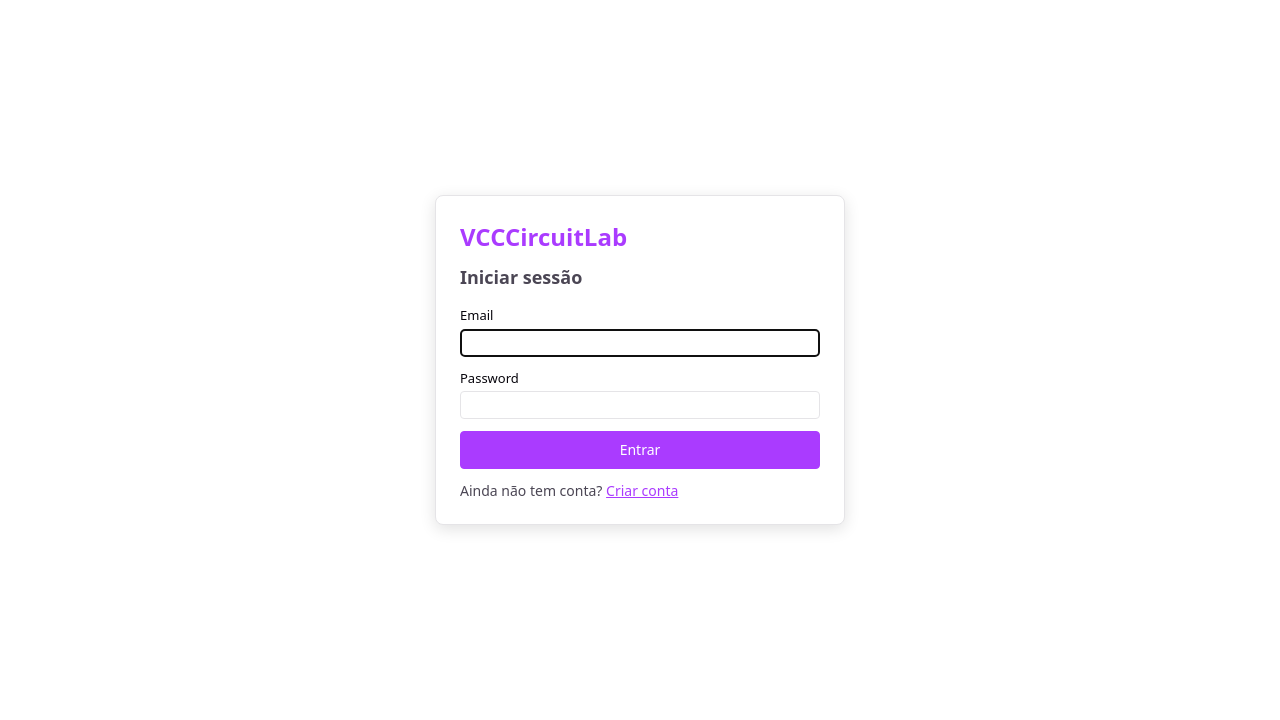
Test: LoginScreen › "Criar conta" abre o registo e, criada a conta, pré-preenche o email
Step 1. Click the button "Criar conta" → (642, 491), box top-left (606, 481), bottom-right (678, 500)
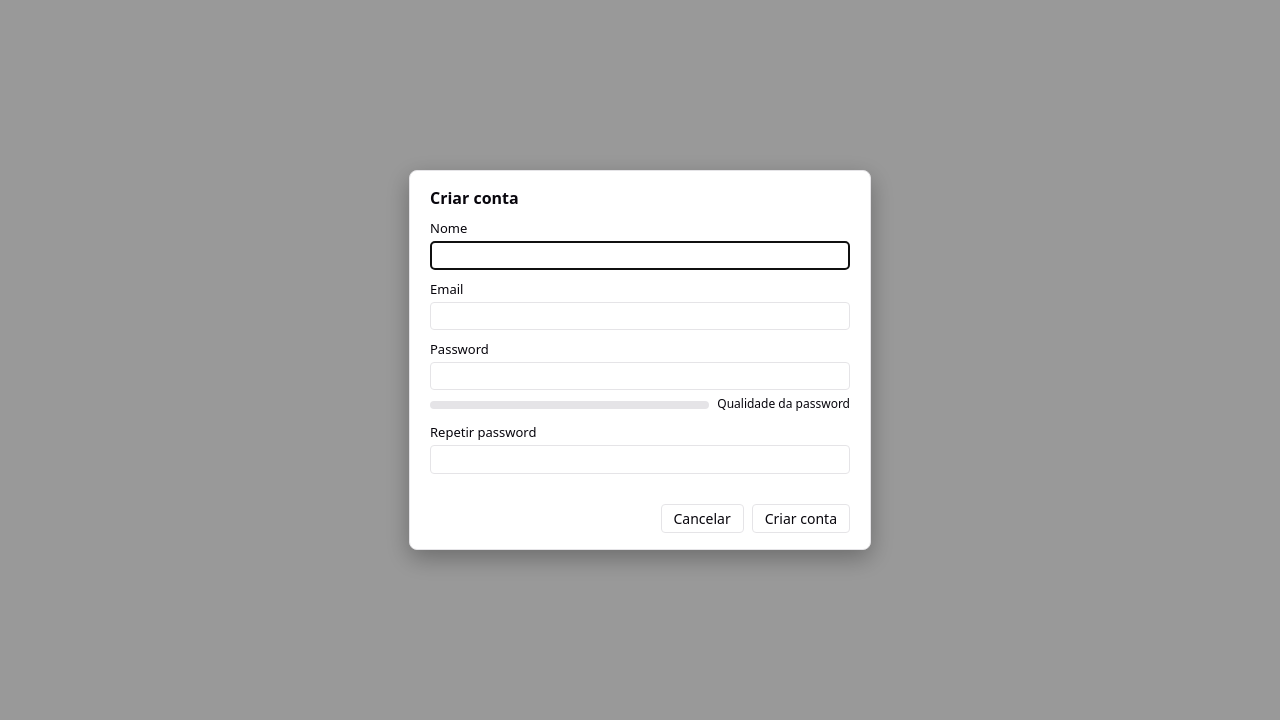
Step 2. Type "Ana" into the field labelled "Nome" → (640, 256), box top-left (430, 241), bottom-right (850, 270)
Step 3. Type "ana@exemplo.pt" into the field labelled "Email" → (640, 316), box top-left (430, 302), bottom-right (850, 330)
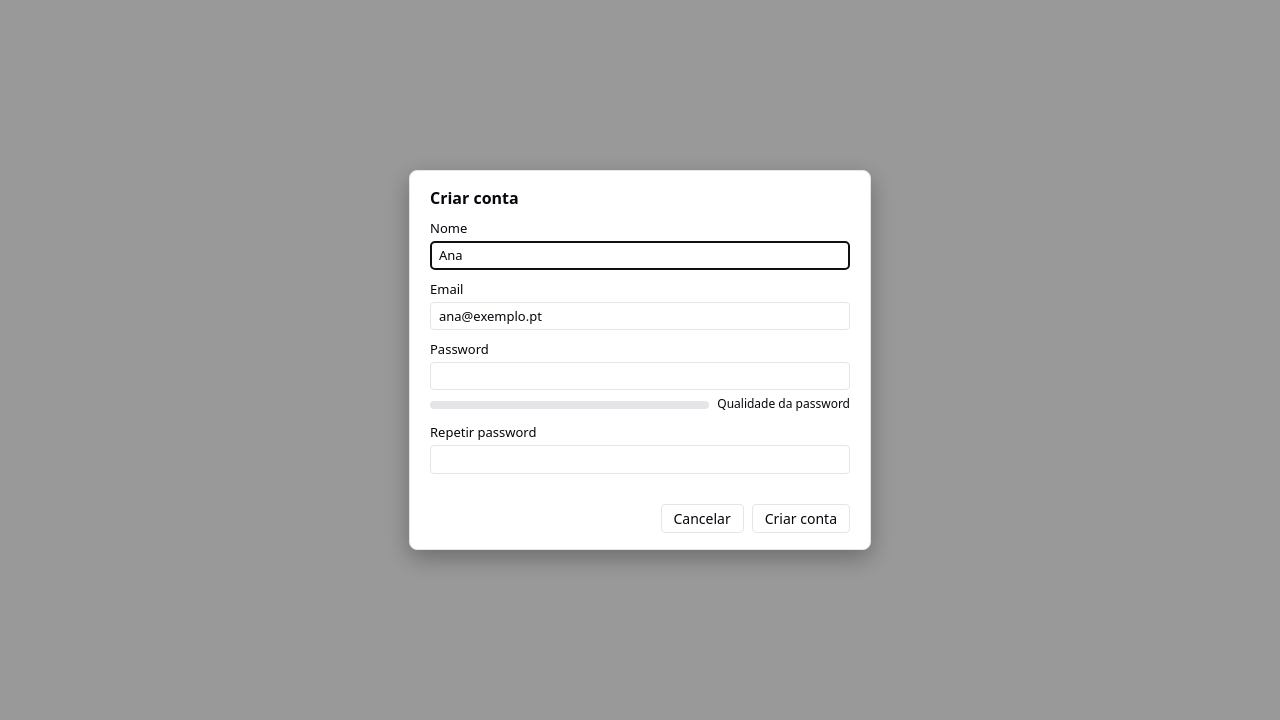
Step 4. Type "Abcdefg1!" into the password field labelled "Password" → (640, 376), box top-left (430, 362), bottom-right (850, 390)
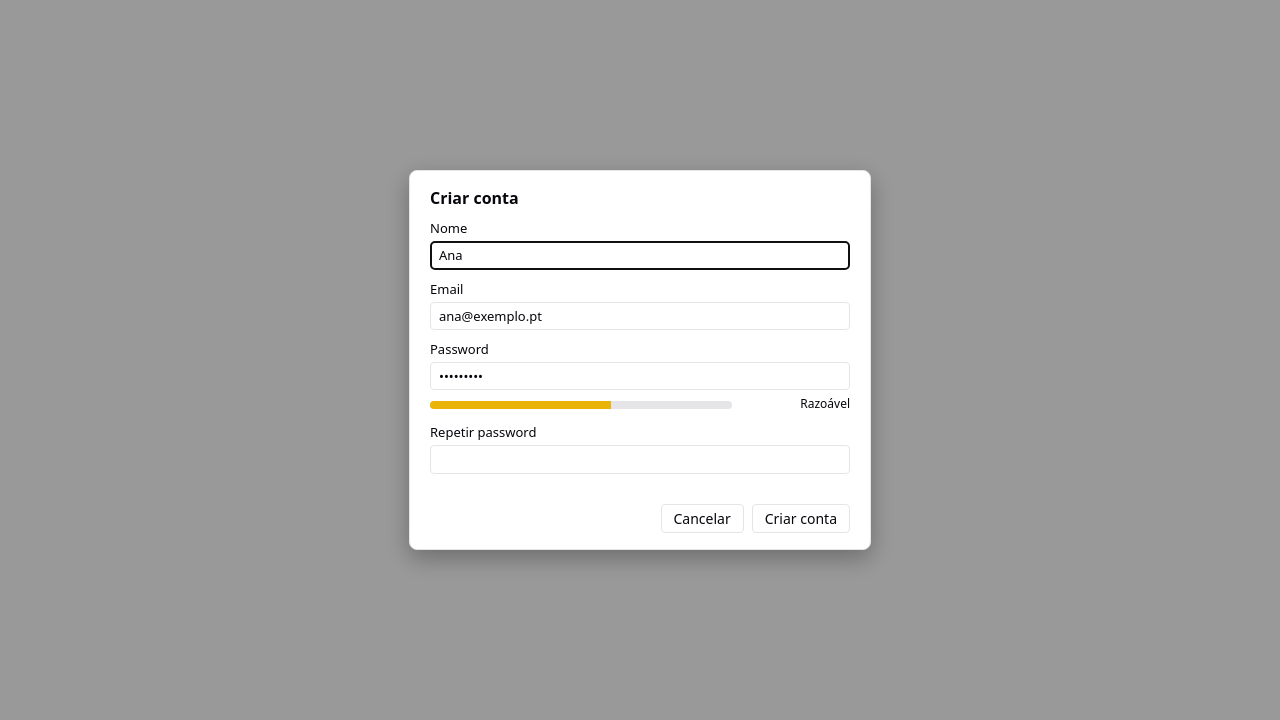
Step 5. Type "Abcdefg1!" into the password field labelled "Repetir password" → (640, 460), box top-left (430, 445), bottom-right (850, 474)
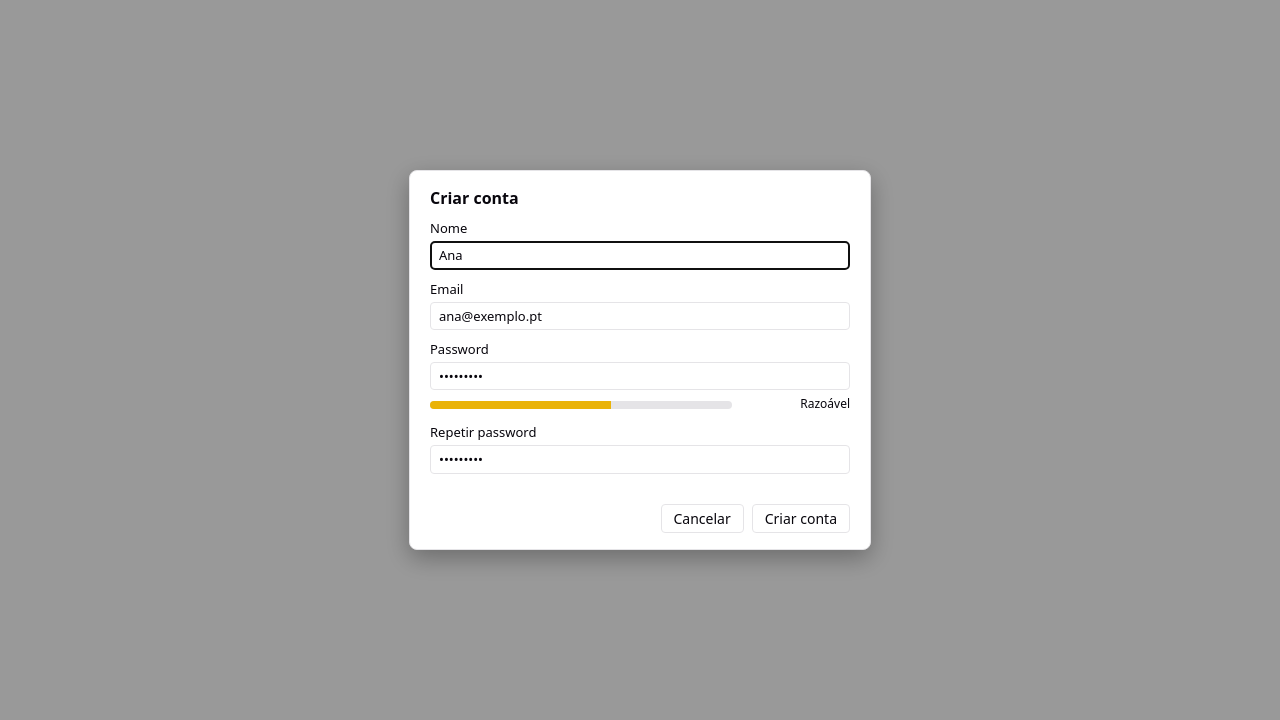
Step 6. Click the button "Criar conta" → (801, 518), box top-left (752, 504), bottom-right (850, 533)
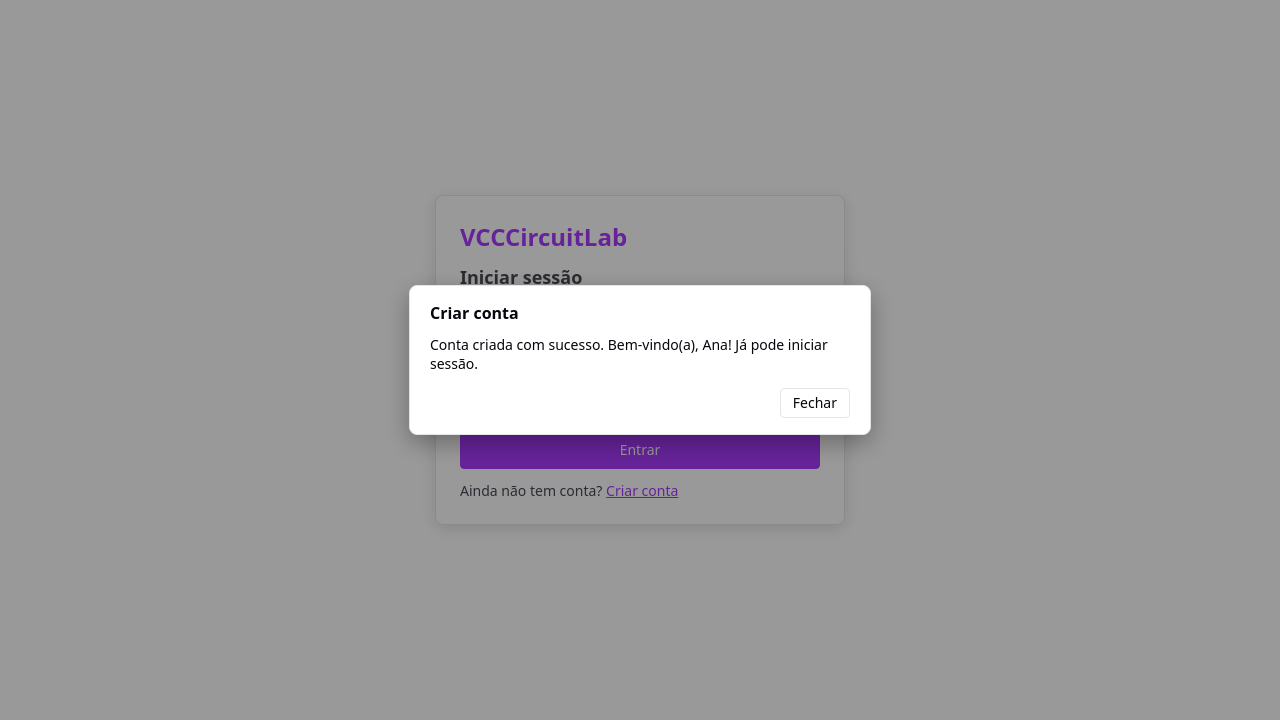
Expected: the text "Conta criada com sucesso. Bem-vindo(a), Ana! Já pode iniciar sessão." is shown, top-left (430, 335), bottom-right (850, 374)
Step 7. Press Escape in the dialog "Criar conta", box top-left (409, 285), bottom-right (871, 435)
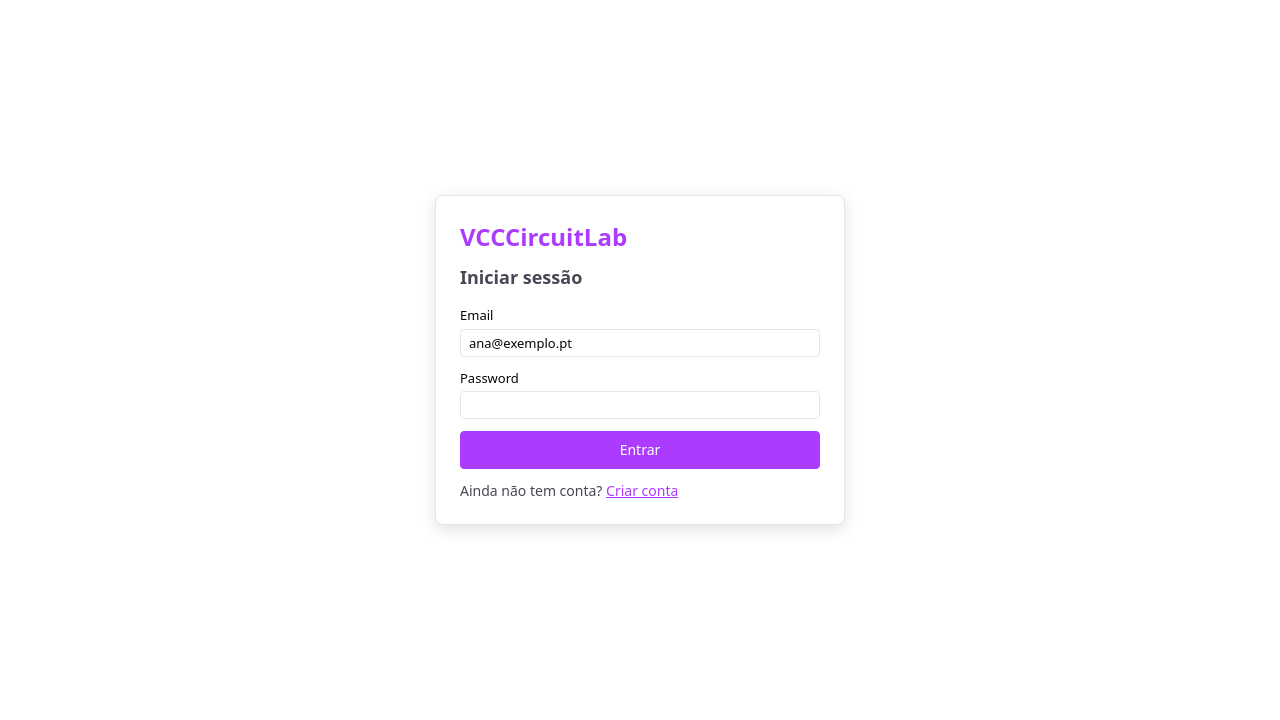
Expected: the field labelled "Email" holds "ana@exemplo.pt", top-left (460, 329), bottom-right (820, 357)
Expected: the dialog is gone
